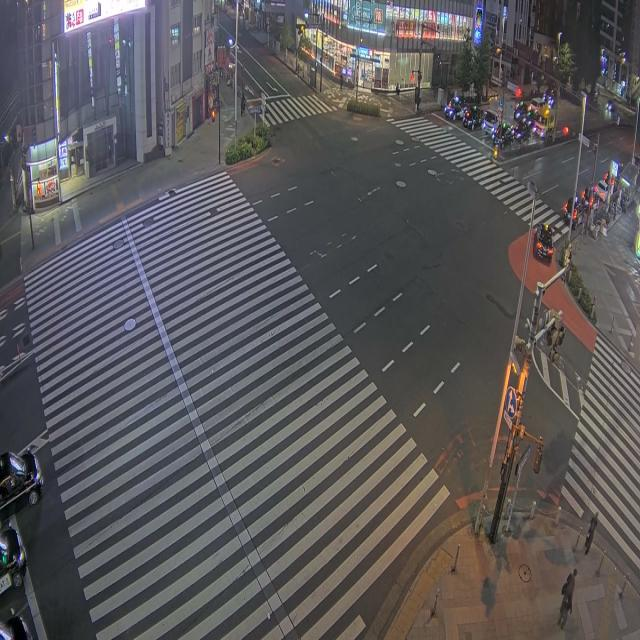car: (0, 451, 42, 508), (0, 525, 26, 592), (0, 616, 32, 639), (534, 224, 553, 261), (562, 195, 582, 226), (462, 105, 483, 130), (492, 123, 513, 148), (444, 96, 465, 119), (481, 110, 499, 135), (513, 123, 530, 142), (594, 180, 607, 201), (513, 101, 527, 120), (528, 97, 544, 111), (605, 100, 614, 112)
van: (528, 97, 543, 111)
